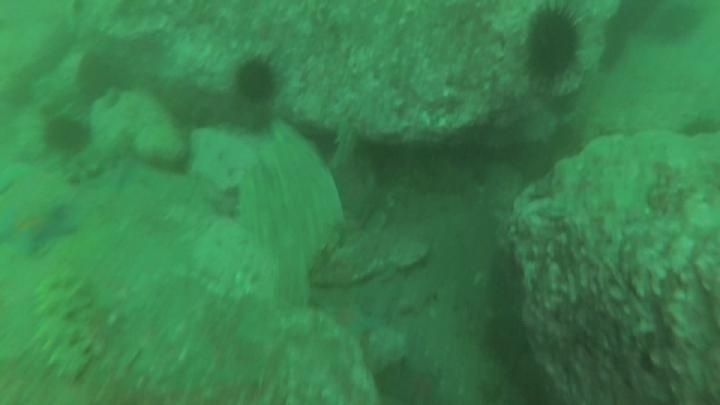echinus: (521, 4, 586, 84), (74, 48, 133, 102), (646, 2, 704, 47), (481, 311, 529, 364), (232, 55, 280, 105), (41, 112, 94, 156), (510, 136, 557, 184), (544, 120, 588, 163), (676, 111, 720, 141)
holothurian: (29, 269, 98, 384), (61, 128, 135, 187)
starfish: (1, 200, 80, 259), (376, 357, 449, 405), (326, 298, 383, 341)
